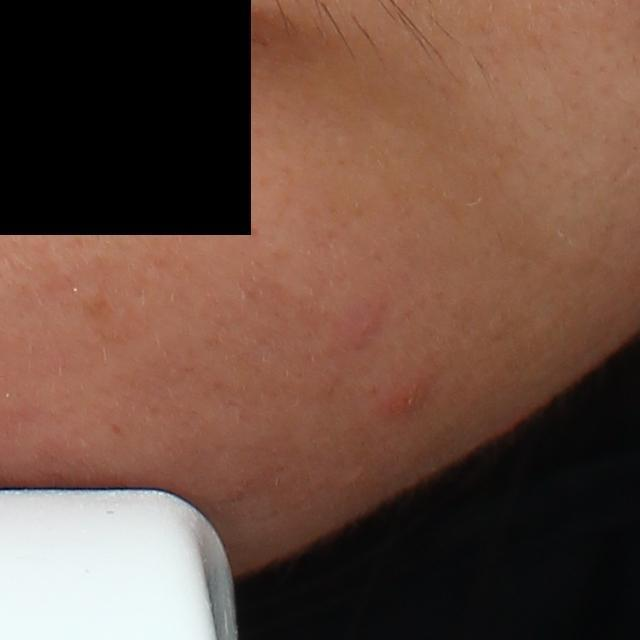papule: (379, 376, 434, 421), (345, 297, 385, 343)
